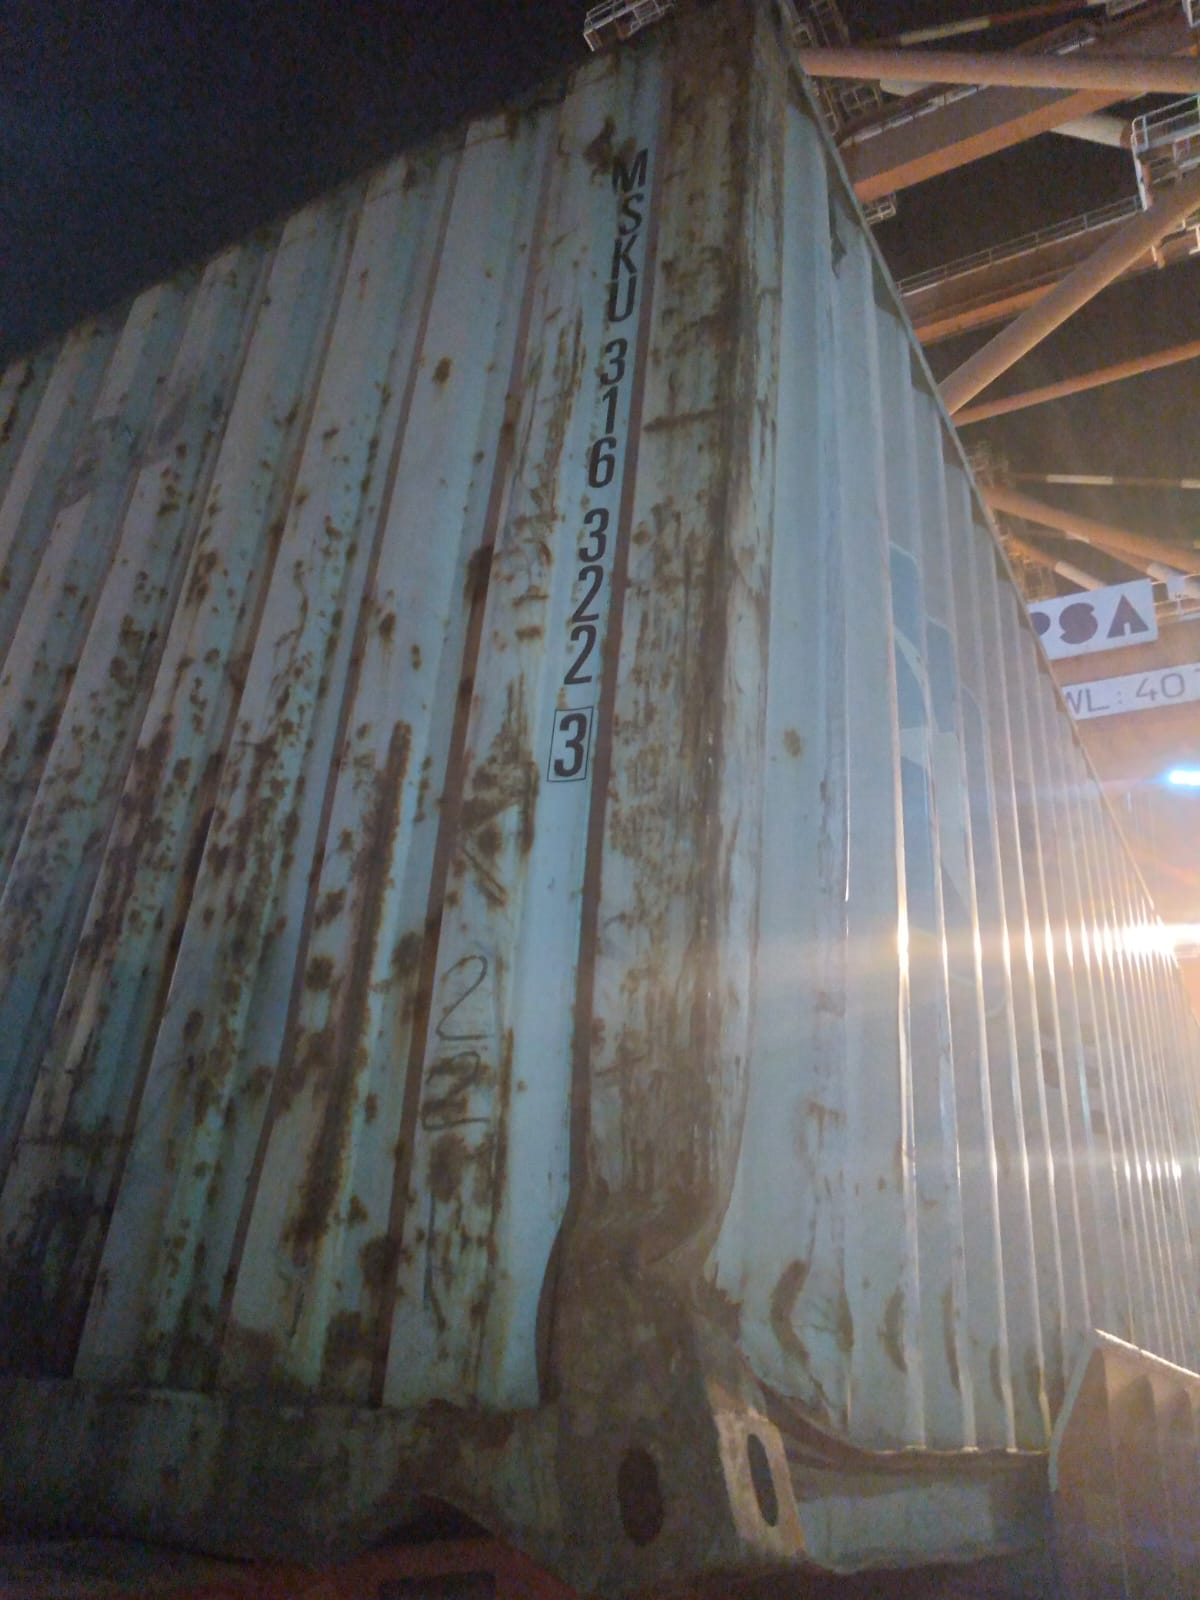bulged: (513, 1101, 845, 1516)
rust: (16, 489, 488, 1303)
